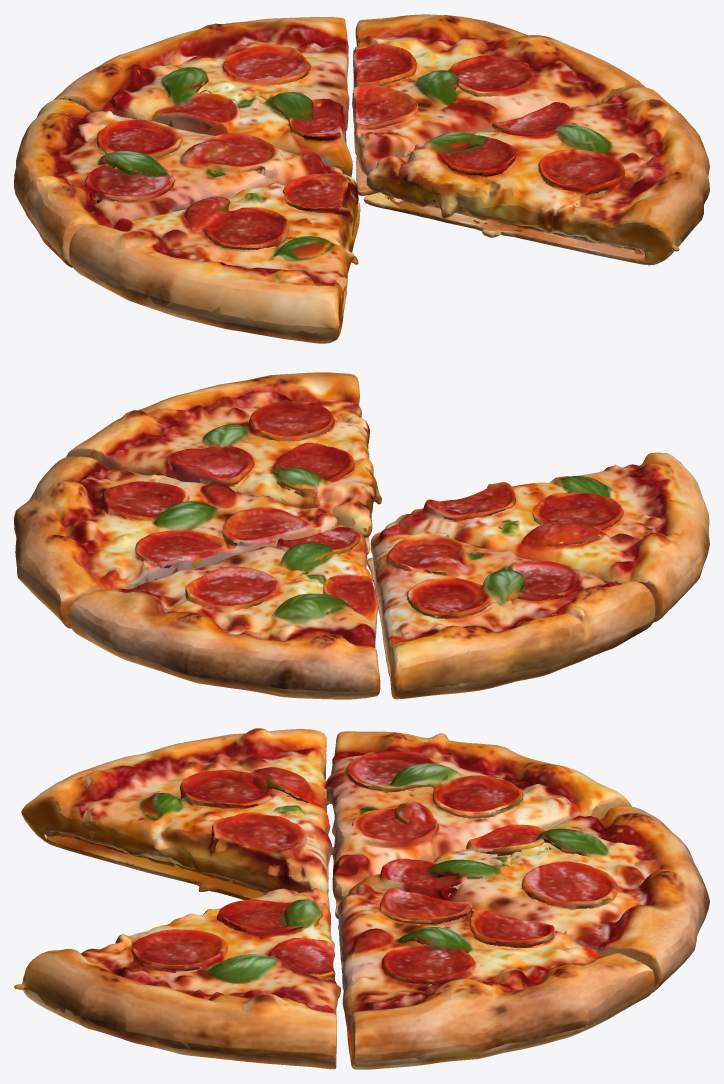
Rendered from stage2-repaired.glb.
3 views of the same model, one above another, from view 1: azimuth 30°, elevation 25°; view 2: azimuth 150°, elevation 25°; view 3: azimuth 270°, elevation 25° (orthographic). The views are drawn at different scales.
Parts seen in each view (by area): view 1: geometry_0; view 2: geometry_0; view 3: geometry_0.
Part boxes in pixels (x1=…): geometry_0: x1=14, y1=14, x2=709, y2=343; geometry_0: x1=14, y1=372, x2=709, y2=699; geometry_0: x1=14, y1=728, x2=709, y2=1069.
Bounding box in the file's own units: 0.3 × 0.0301 × 0.289.
Materials: 2 (2 with a texture image).
